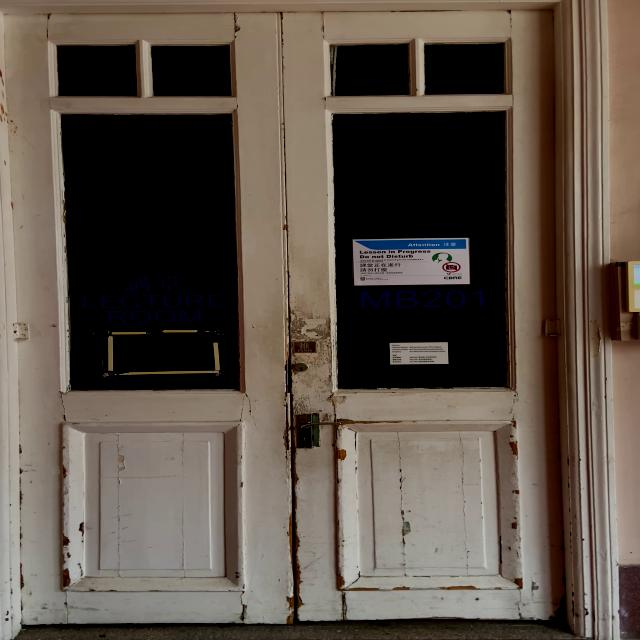room201Window: (353, 288, 491, 310)
